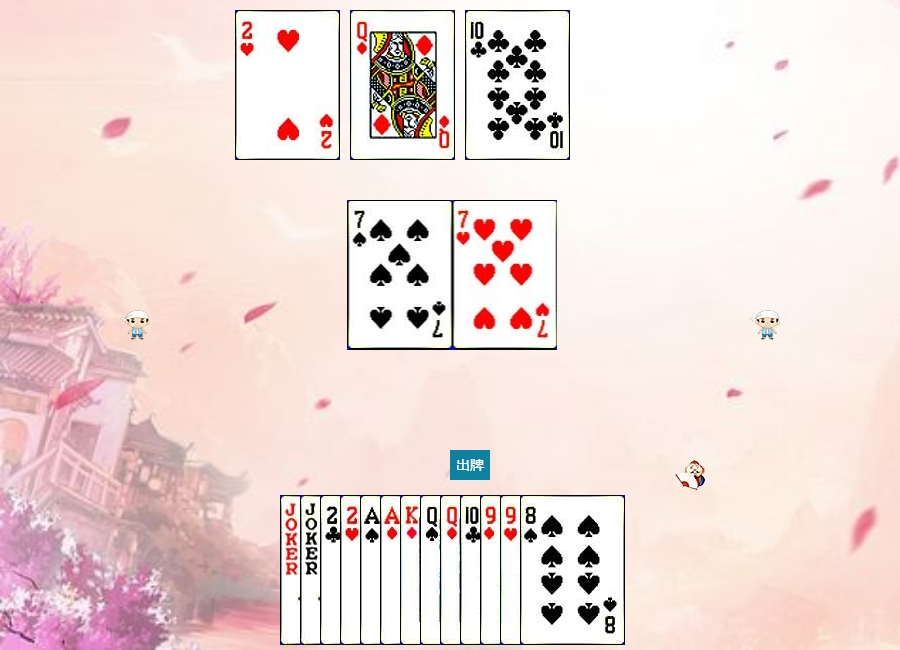10~2: (465, 10, 570, 160), (460, 495, 565, 645)
12~1: (350, 10, 455, 160), (440, 495, 545, 645)
12~4: (420, 495, 525, 645)
13~1: (400, 495, 505, 645)
14~1: (380, 495, 485, 645)
14~4: (360, 495, 465, 645)
15~2: (320, 495, 425, 645)
15~3: (235, 10, 340, 160), (340, 495, 445, 645)
17~3: (300, 495, 405, 645)
18~4: (280, 495, 385, 645)
7~3: (453, 200, 558, 350)
7~4: (348, 200, 453, 350)
8~4: (520, 495, 625, 645)
9~1: (480, 495, 585, 645)
9~3: (500, 495, 605, 645)
